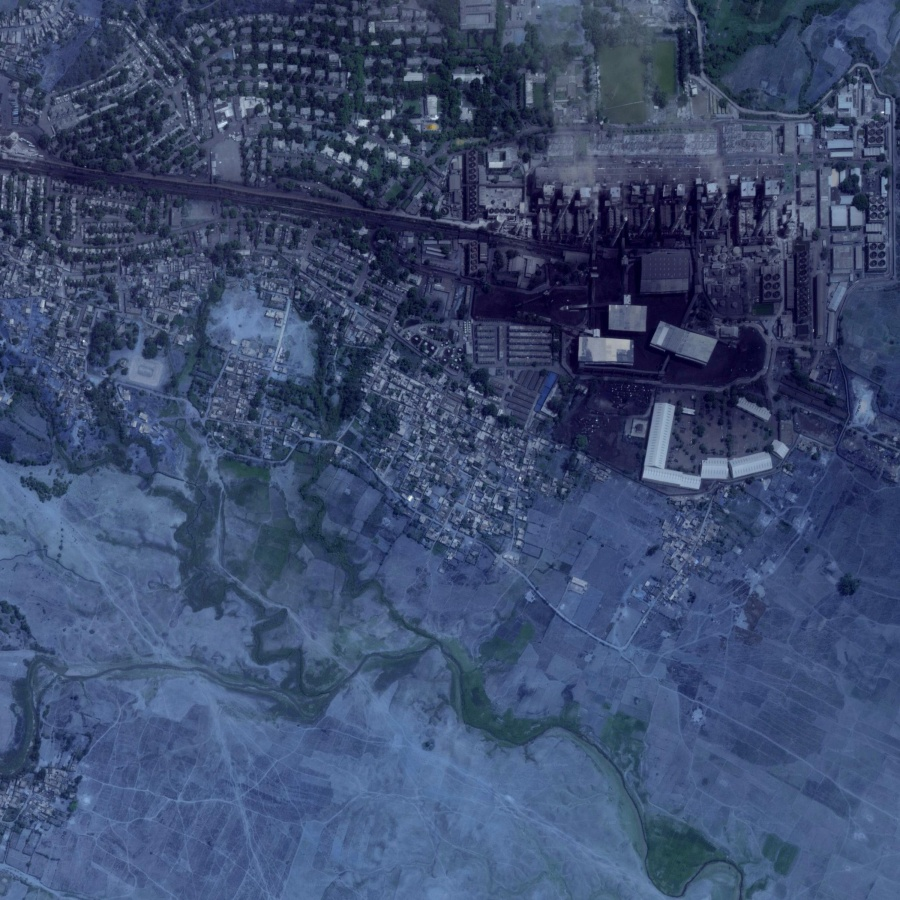PowerPlant: (473, 45, 896, 395)
